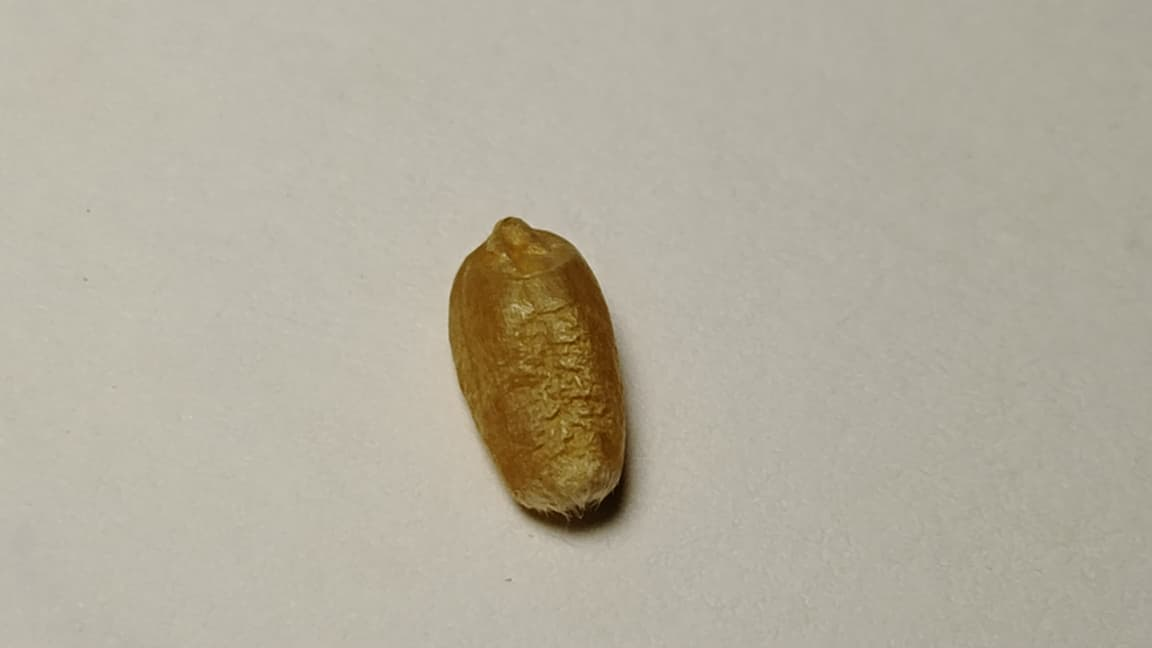healthy: (449, 218, 624, 505)
